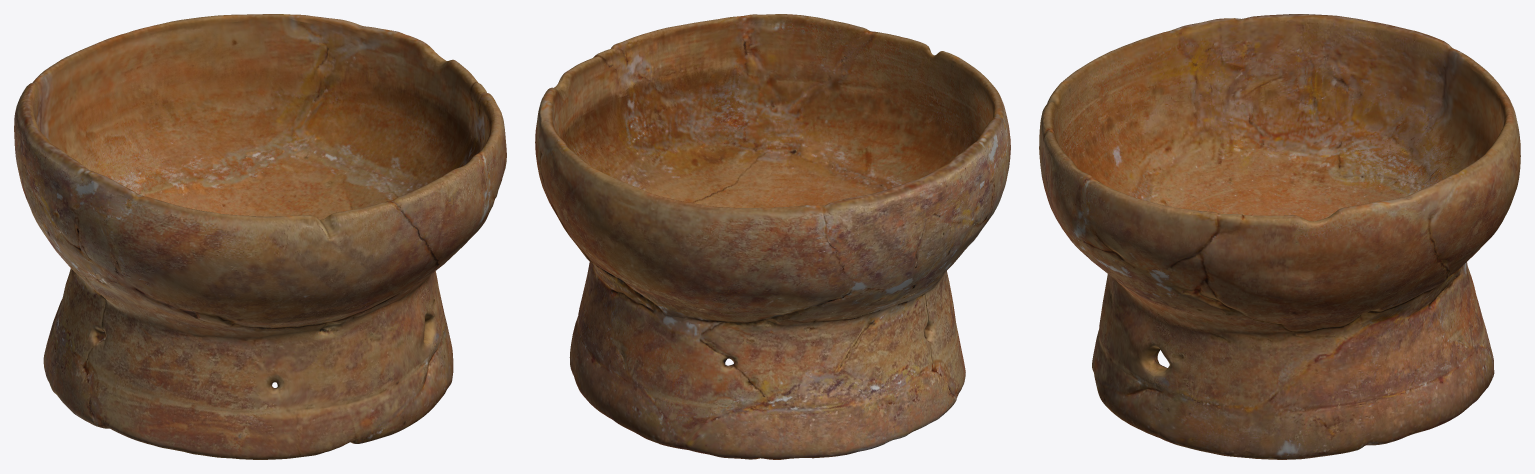
The model's file is 新石器时代划弦纹彩陶碗.glb.
The picture shows the model from 3 angles, left to right: view 1: azimuth 30°, elevation 25°; view 2: azimuth 150°, elevation 25°; view 3: azimuth 270°, elevation 25°; orthographic projection. The views are drawn at different scales.
Parts seen in each view (by area): view 1: defaultobject; view 2: defaultobject; view 3: defaultobject.
Boxes of the visible parts, bbox=[...] form: defaultobject: bbox=[14, 14, 506, 459]; defaultobject: bbox=[535, 14, 1010, 459]; defaultobject: bbox=[1039, 14, 1520, 459].
Bounding box in the file's own units: 29.37 × 18.48 × 29.78.
Materials: 1 (1 with a texture image).
